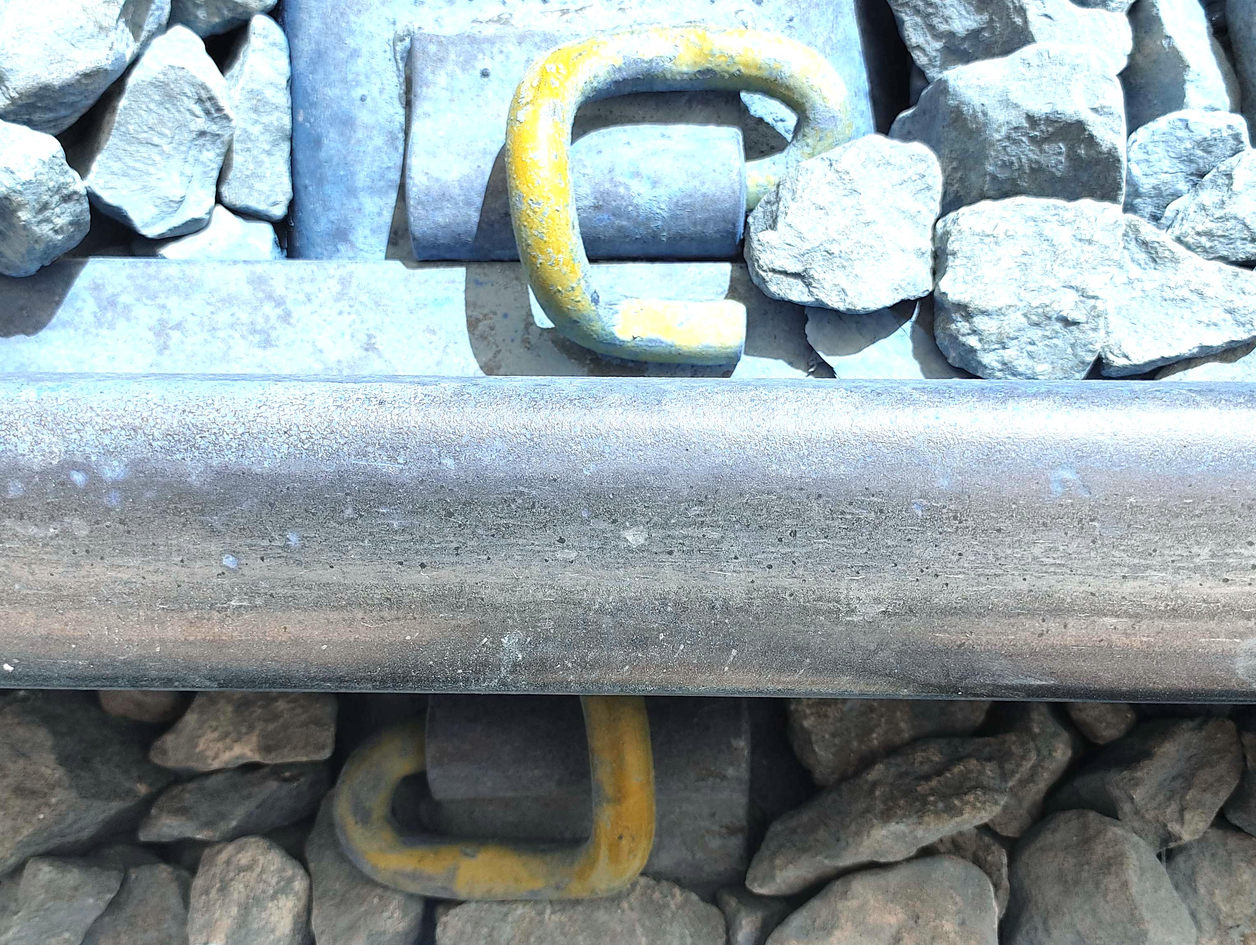Poor contact: (400, 25, 875, 362), (339, 692, 675, 944)
